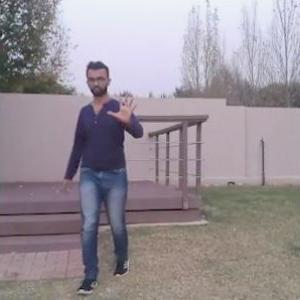follow_hand: (107, 86, 141, 123)
